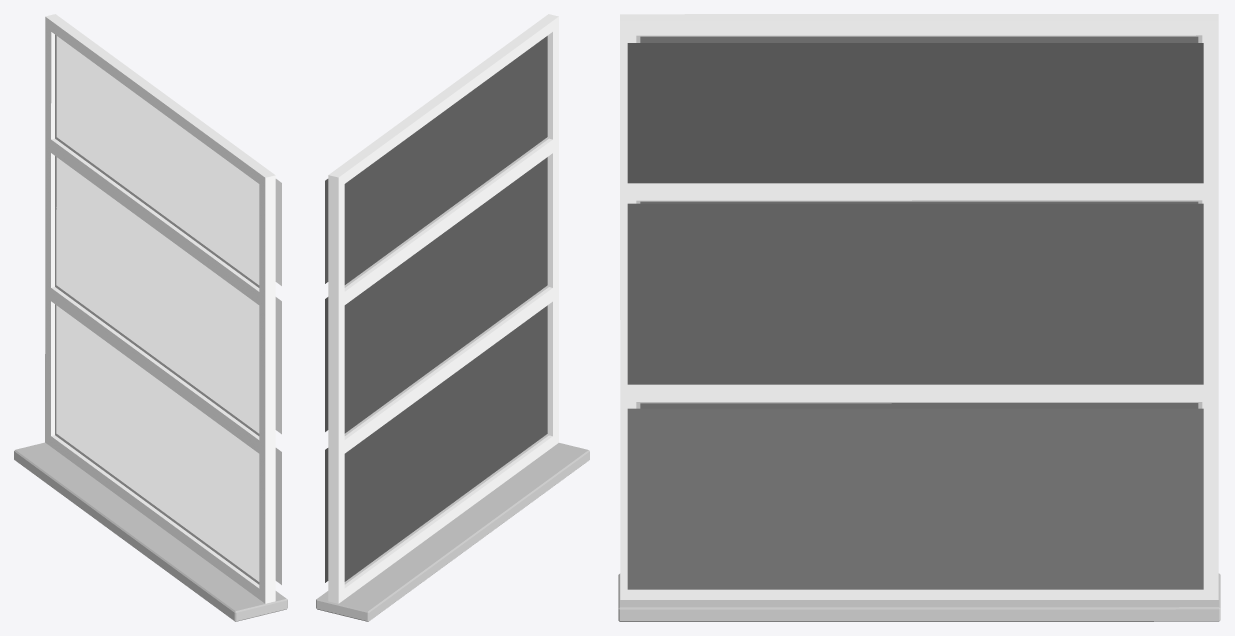
File: Window_36f7a7a9.obj
3 views of the same model, side by side, from view 1: azimuth 30°, elevation 25°; view 2: azimuth 150°, elevation 25°; view 3: azimuth 270°, elevation 25° (orthographic). The views are drawn at different scales.
Parts seen in each view (by area): view 1: FP201:polySurface16_42ec95b1, FP201:polySurface18_bcc8c821, QuadDecalSpawnPlane_(1)_a9baf566, QuadDecalSpawnPlane_(2)_e72ec2cc, QuadDecalSpawnPlane_413ca968; view 2: FP201:polySurface16_42ec95b1, FP201:polySurface18_bcc8c821, QuadDecalSpawnPlane_(1)_a9baf566, QuadDecalSpawnPlane_(2)_e72ec2cc, QuadDecalSpawnPlane_413ca968; view 3: QuadDecalSpawnPlane_(1)_a9baf566, QuadDecalSpawnPlane_(2)_e72ec2cc, QuadDecalSpawnPlane_413ca968, FP201:polySurface18_bcc8c821, FP201:polySurface16_42ec95b1.
Boxes of the visible parts, box(x1,y1,x2,y2) form: FP201:polySurface16_42ec95b1: box(56, 36, 259, 581); FP201:polySurface18_bcc8c821: box(14, 14, 287, 621); QuadDecalSpawnPlane_(1)_a9baf566: box(275, 448, 281, 584); QuadDecalSpawnPlane_(2)_e72ec2cc: box(275, 297, 281, 434); QuadDecalSpawnPlane_413ca968: box(275, 179, 281, 285); FP201:polySurface16_42ec95b1: box(344, 36, 547, 581); FP201:polySurface18_bcc8c821: box(316, 14, 589, 621); QuadDecalSpawnPlane_(1)_a9baf566: box(325, 448, 328, 582); QuadDecalSpawnPlane_(2)_e72ec2cc: box(325, 297, 328, 431); QuadDecalSpawnPlane_413ca968: box(325, 179, 328, 283); QuadDecalSpawnPlane_(1)_a9baf566: box(627, 408, 1203, 589); QuadDecalSpawnPlane_(2)_e72ec2cc: box(627, 203, 1203, 384); QuadDecalSpawnPlane_413ca968: box(627, 43, 1203, 183); FP201:polySurface18_bcc8c821: box(618, 14, 1220, 621); FP201:polySurface16_42ec95b1: box(640, 36, 1198, 408).
Size of the model in its own units: 0.207 by 1.62 by 1.49.
